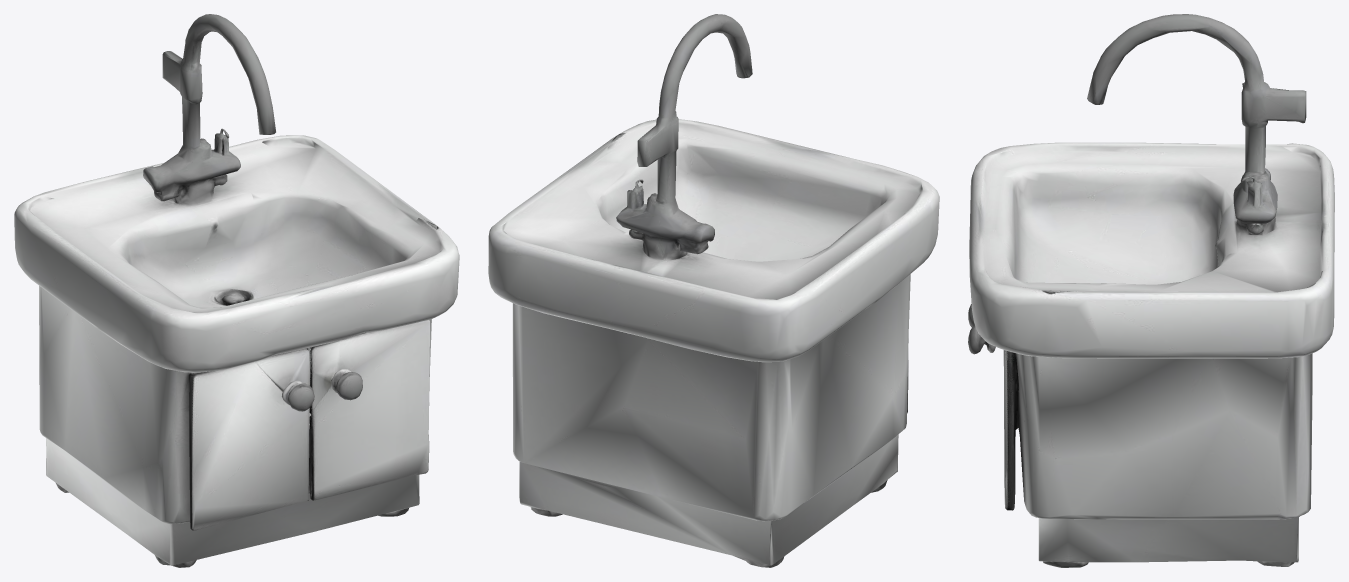
File: sink.glb
The picture shows the model from 3 angles, left to right: view 1: azimuth 30°, elevation 25°; view 2: azimuth 150°, elevation 25°; view 3: azimuth 270°, elevation 25°; orthographic projection. The views are drawn at different scales.
Visible parts, largest first — view 1: Mesh_0; view 2: Mesh_0; view 3: Mesh_0.
Part boxes in pixels (bbox=[...]): Mesh_0: bbox=[14, 14, 459, 567]; Mesh_0: bbox=[488, 14, 939, 567]; Mesh_0: bbox=[968, 14, 1334, 567].
Bounding box in the file's own units: 1.36 × 2 × 1.35.
1 material, 1 textured.
